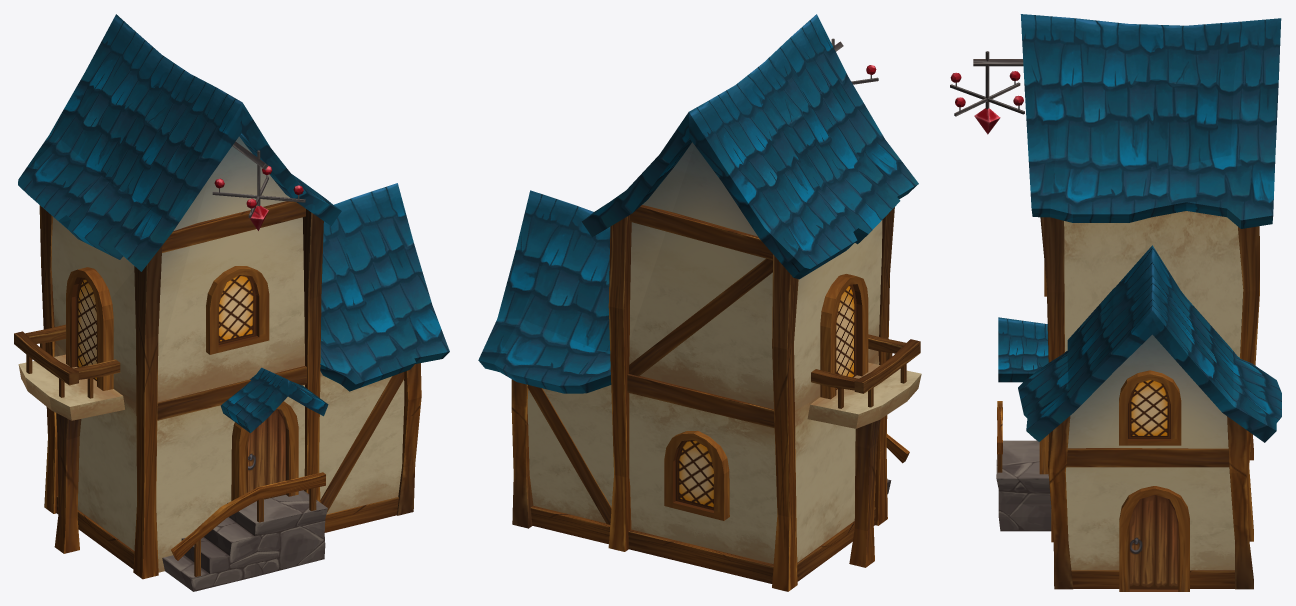
File: flamingo.glb
3 renders of one model, left to right at view 1: azimuth 30°, elevation 25°; view 2: azimuth 150°, elevation 25°; view 3: azimuth 270°, elevation 25°, orthographic. The views are drawn at different scales.
Parts seen in each view (by area): view 1: Fantasy_House_6_Fantasy_House_6_0; view 2: Fantasy_House_6_Fantasy_House_6_0; view 3: Fantasy_House_6_Fantasy_House_6_0.
Boxes of the visible parts, x1,y1,x2,y2 form: Fantasy_House_6_Fantasy_House_6_0: (14, 14, 449, 591); Fantasy_House_6_Fantasy_House_6_0: (478, 14, 921, 591); Fantasy_House_6_Fantasy_House_6_0: (950, 14, 1281, 591).
Bounding box in the file's own units: 292 × 360 × 225.
Materials: 1 (1 with a texture image).
